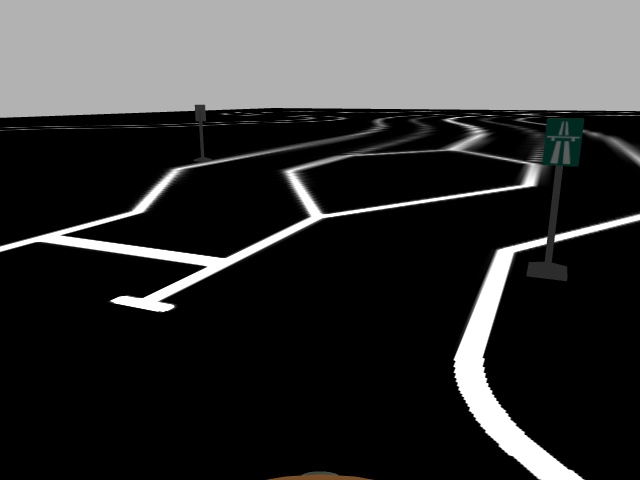enter_highway: (539, 116, 586, 167)
